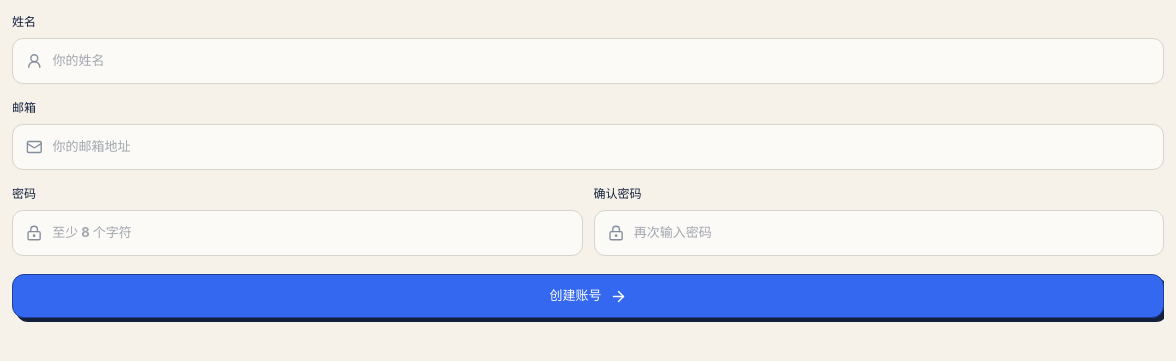
RegisterForm › requires matching passwords during registration
In the field labelled "姓名": (601, 61) [53, 51, 1150, 71], type "Ada Lovelace"
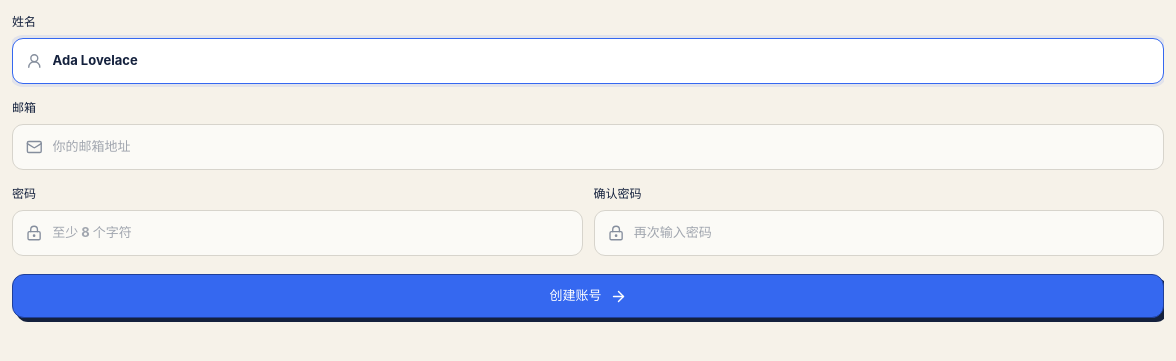
In the field labelled "邮箱": (601, 147) [53, 137, 1150, 157], type "ada@example.com"
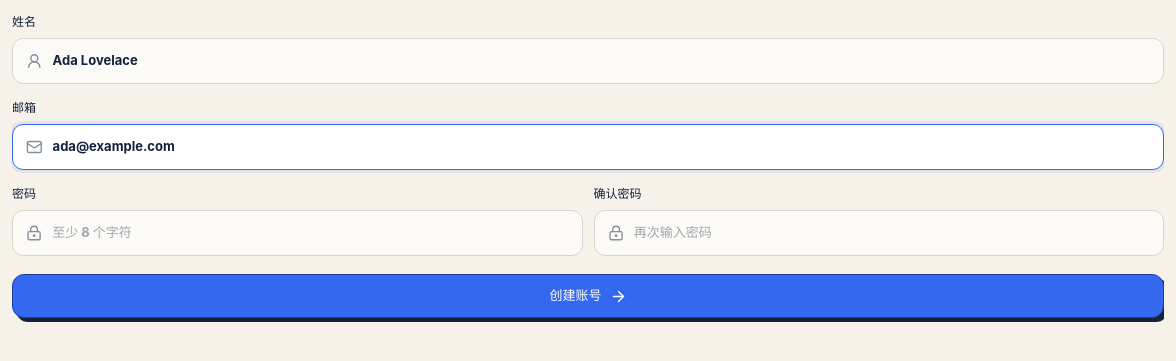
In the password field labelled "密码": (310, 233) [52, 223, 568, 243], type "correct-horse"
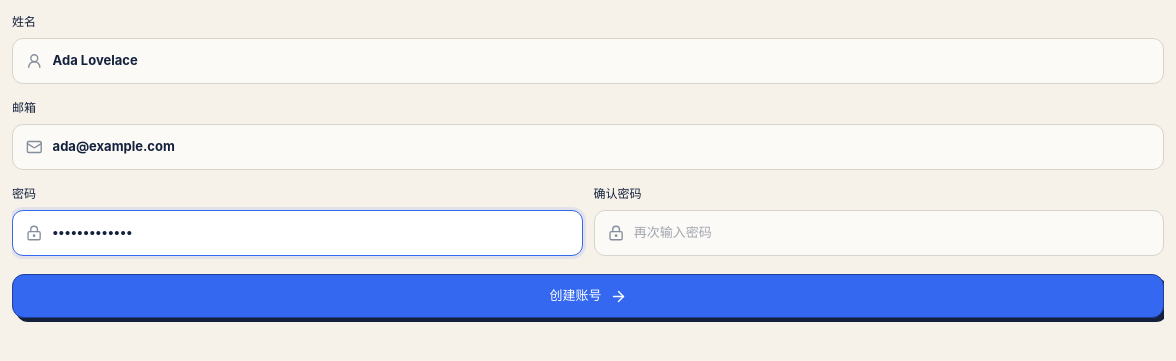
In the password field labelled "确认密码": (892, 233) [634, 223, 1150, 243], type "different-horse"
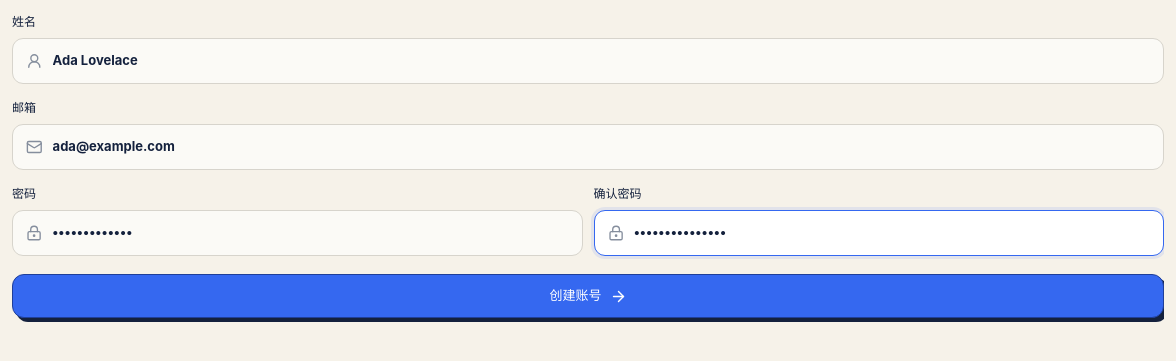
Click the button "创建账号": click(588, 296) [12, 274, 1164, 318]
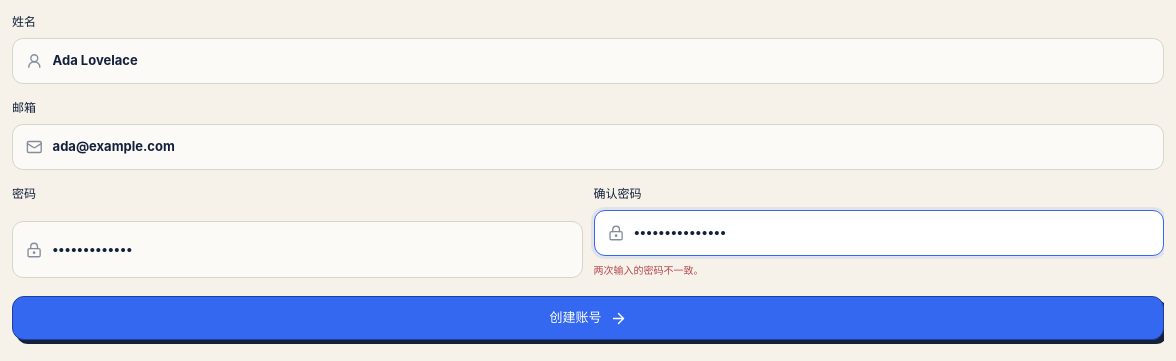
Expected: the text "两次输入的密码不一致。" is shown, [594, 264, 704, 276]
